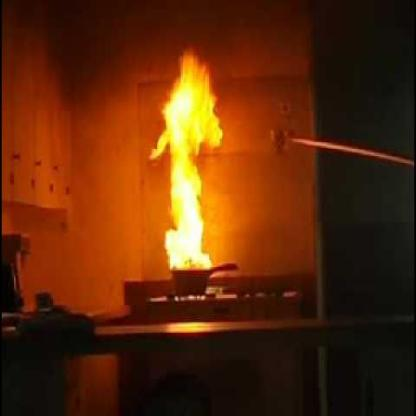fire: (145, 55, 226, 275)
